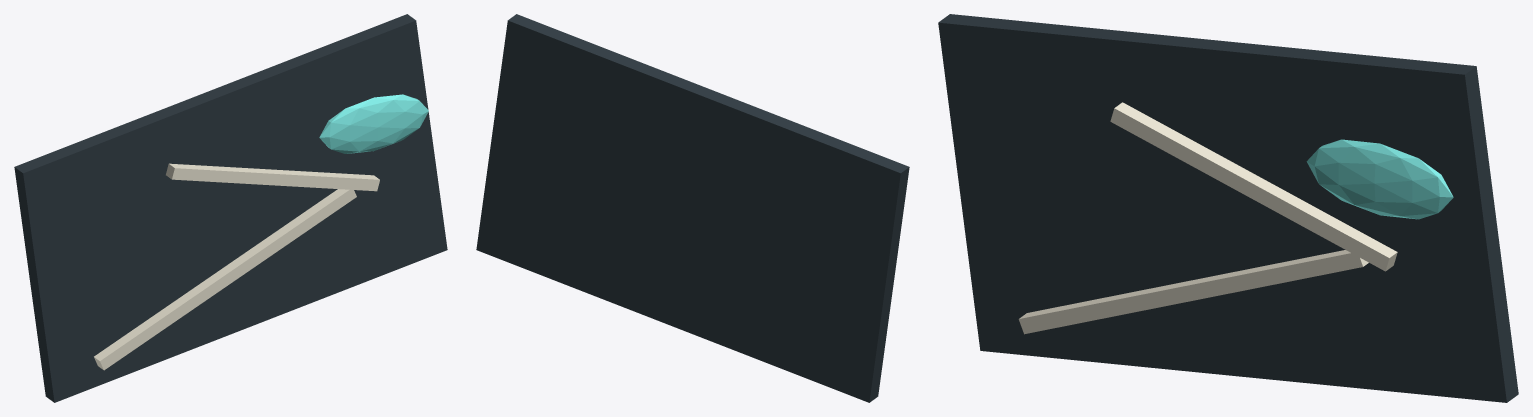
The model's file is 03_weathering_wear_overlay_3.glb.
3 renders of one model, left to right at view 1: azimuth 30°, elevation 25°; view 2: azimuth 150°, elevation 25°; view 3: azimuth 330°, elevation 25°, orthographic. The views are drawn at different scales.
Parts seen in each view (by area): view 1: wear_plate, scratch_a, rust_or_moss_spot, scratch_b; view 2: wear_plate; view 3: wear_plate, rust_or_moss_spot, scratch_b, scratch_a.
Part boxes in pixels (left/top/right/bottom): wear_plate: left=14, top=14, right=447, bottom=402; scratch_a: left=94, top=189, right=356, bottom=370; rust_or_moss_spot: left=319, top=94, right=428, bottom=153; scratch_b: left=166, top=163, right=379, bottom=191; wear_plate: left=476, top=14, right=909, bottom=402; wear_plate: left=938, top=14, right=1518, bottom=402; rust_or_moss_spot: left=1306, top=139, right=1453, bottom=219; scratch_b: left=1110, top=102, right=1397, bottom=271; scratch_a: left=1018, top=250, right=1368, bottom=334.
Bounding box in the file's own units: 1.39 × 0.9214 × 0.134.
